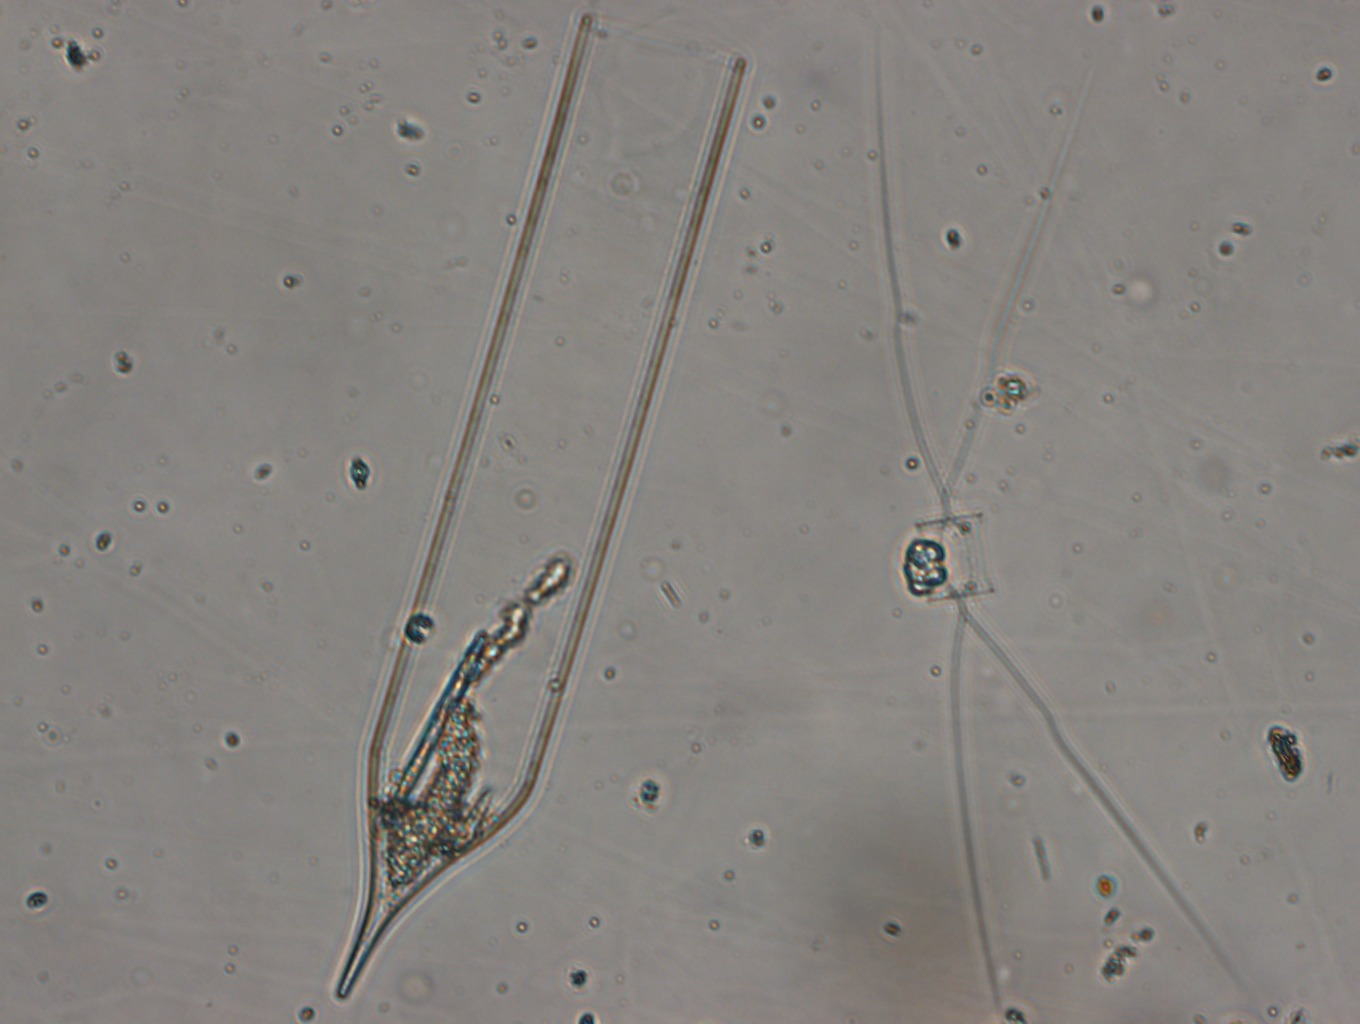chaetoceros: (865, 23, 1256, 1014)
rhizosolenia: (330, 15, 761, 1005)
